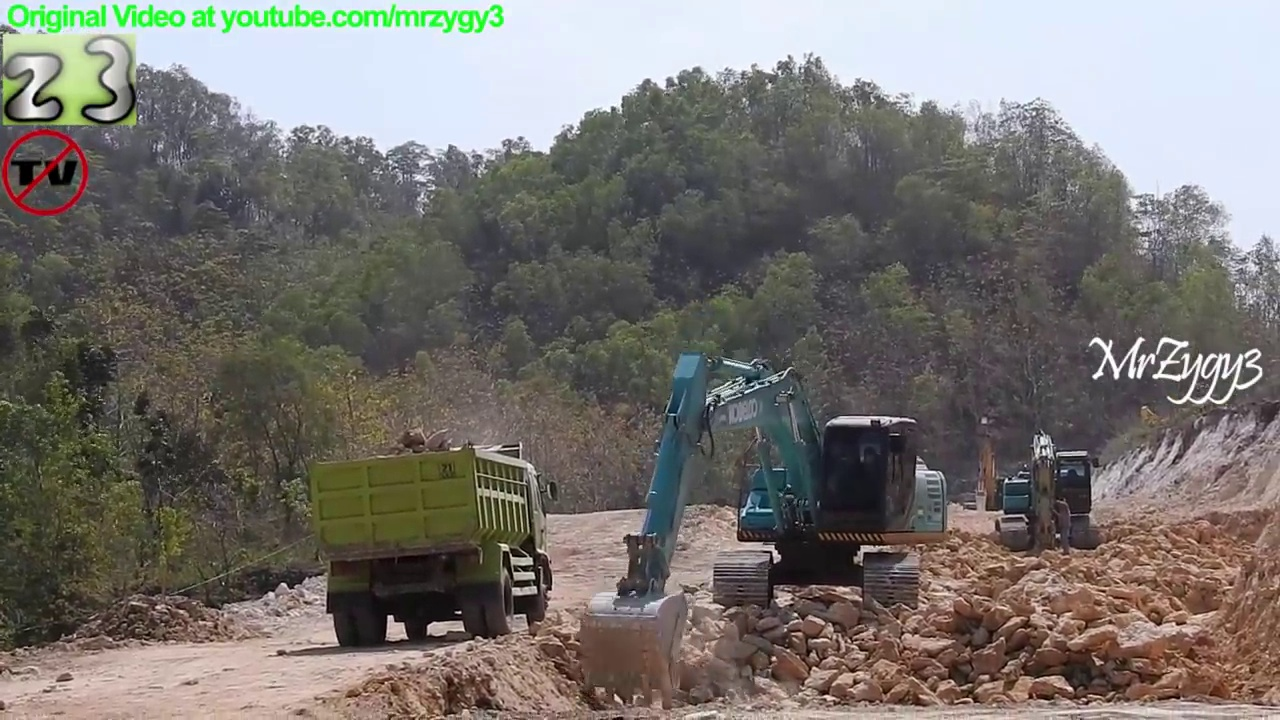excavator: (575, 347, 954, 706), (954, 410, 1030, 520)
excavator breaker: (992, 426, 1107, 558)
truck: (305, 437, 565, 652)
worker: (1047, 490, 1081, 559)
